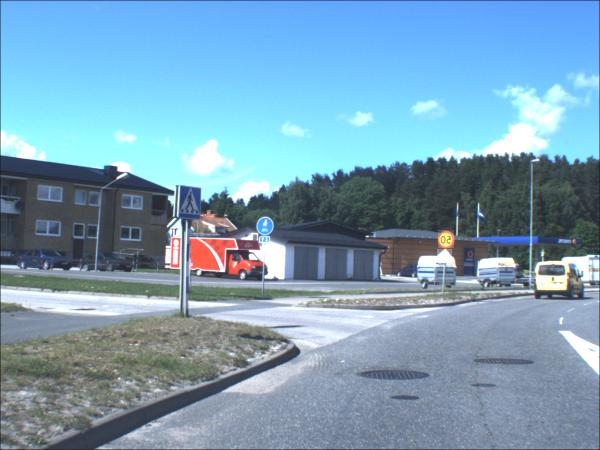50_SIGN: (438, 231, 455, 250)
PEDESTRIAN_CROSSING: (179, 186, 205, 220)
PRIORITY_ROAD: (437, 250, 453, 265)
